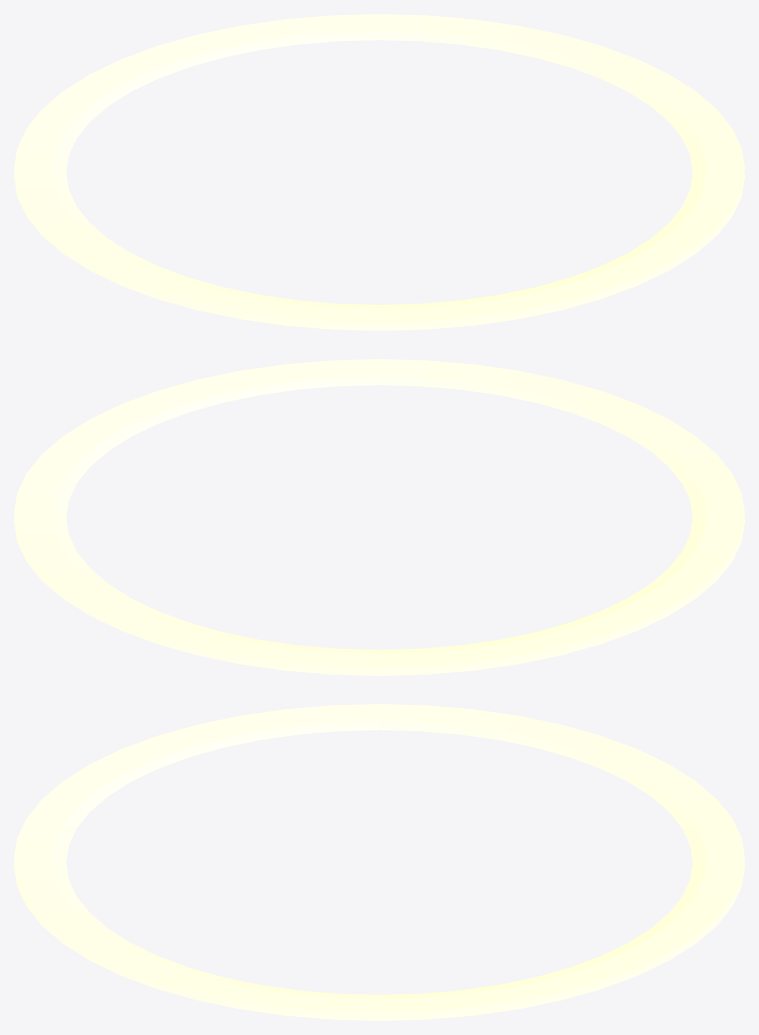
Rendered from Level_2_Hole .fbx.
3 views of the same model, one above another, from view 1: azimuth 30°, elevation 25°; view 2: azimuth 150°, elevation 25°; view 3: azimuth 270°, elevation 25° (orthographic).
Visible parts, largest first — view 1: Torus; view 2: Torus; view 3: Torus.
Part boxes in pixels (x1,y1,x2,y2): Torus: (14, 14, 744, 330); Torus: (14, 359, 744, 675); Torus: (14, 704, 744, 1020).
Size of the model in its own units: 549 by 6.48 by 549.
